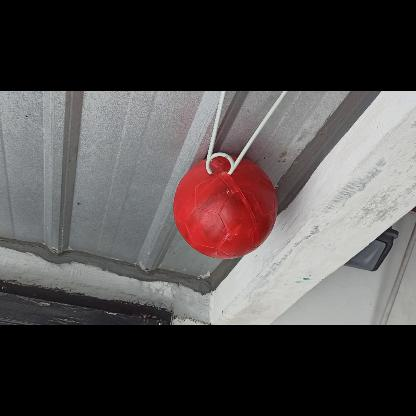red_ball: (172, 157, 276, 261)
